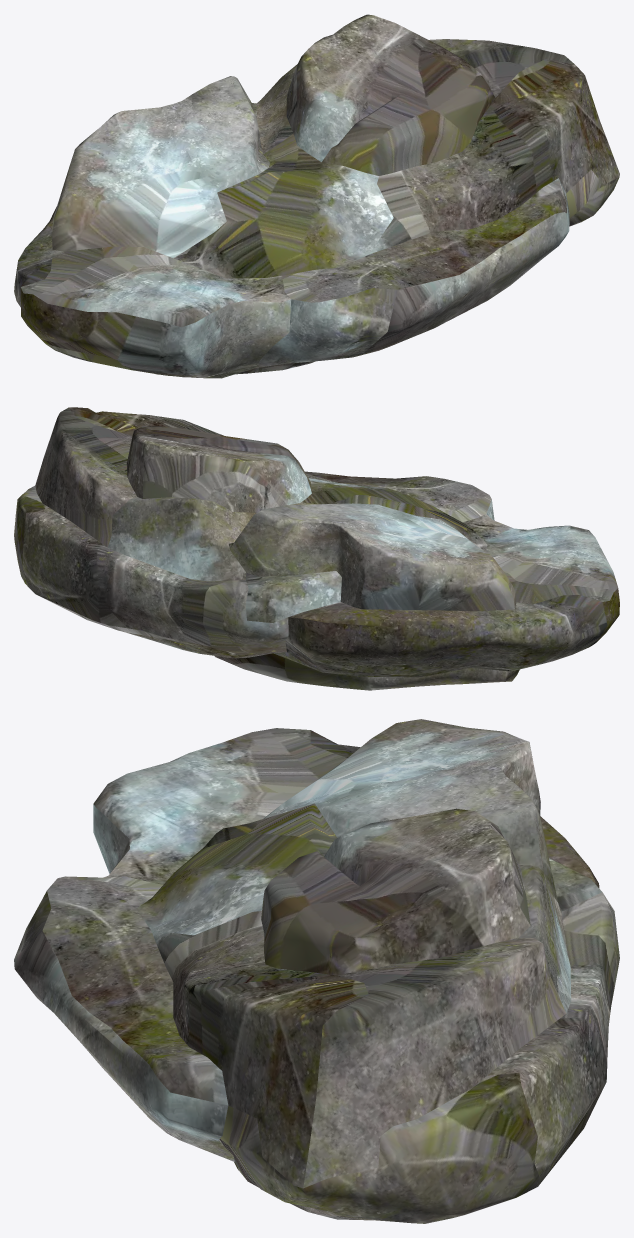
3 renders of one model, top to bottom at view 1: azimuth 30°, elevation 25°; view 2: azimuth 150°, elevation 25°; view 3: azimuth 270°, elevation 25°, orthographic. The views are drawn at different scales.
Parts seen in each view (by area): view 1: SM_Mining_Node_Large_Silver_02_LOD0; view 2: SM_Mining_Node_Large_Silver_02_LOD0; view 3: SM_Mining_Node_Large_Silver_02_LOD0.
Part boxes in pixels (x1,y1,x2,y2): SM_Mining_Node_Large_Silver_02_LOD0: (14,14,619,378); SM_Mining_Node_Large_Silver_02_LOD0: (14,407,619,690); SM_Mining_Node_Large_Silver_02_LOD0: (14,719,619,1223).
Bounding box in the file's own units: 5.52 × 2.18 × 3.38.
